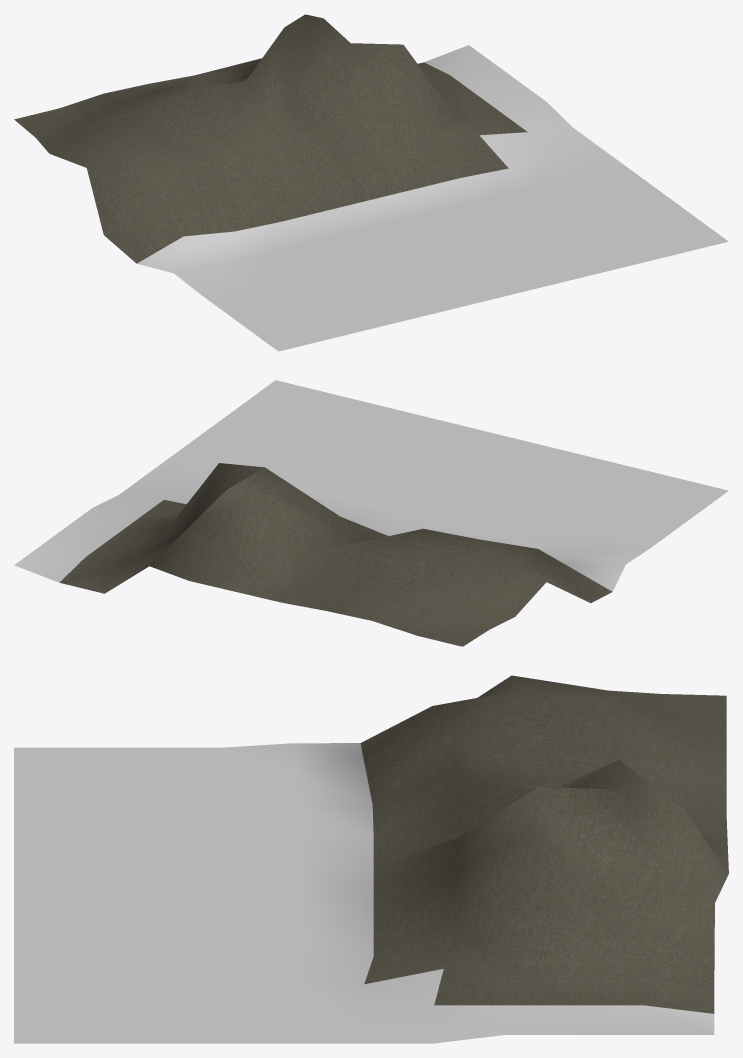
Rendered from Maya.fbx.
The picture shows the model from 3 angles, top to bottom: view 1: azimuth 30°, elevation 25°; view 2: azimuth 150°, elevation 25°; view 3: azimuth 270°, elevation 25°; orthographic projection. The views are drawn at different scales.
Parts seen in each view (by area): view 1: terrain; view 2: terrain; view 3: terrain.
Boxes of the visible parts, box(x1,y1,x2,y2) form: terrain: box(14, 14, 728, 351); terrain: box(14, 380, 728, 646); terrain: box(14, 675, 728, 1043).
Bounding box in the file's own units: 521 × 113 × 510.
